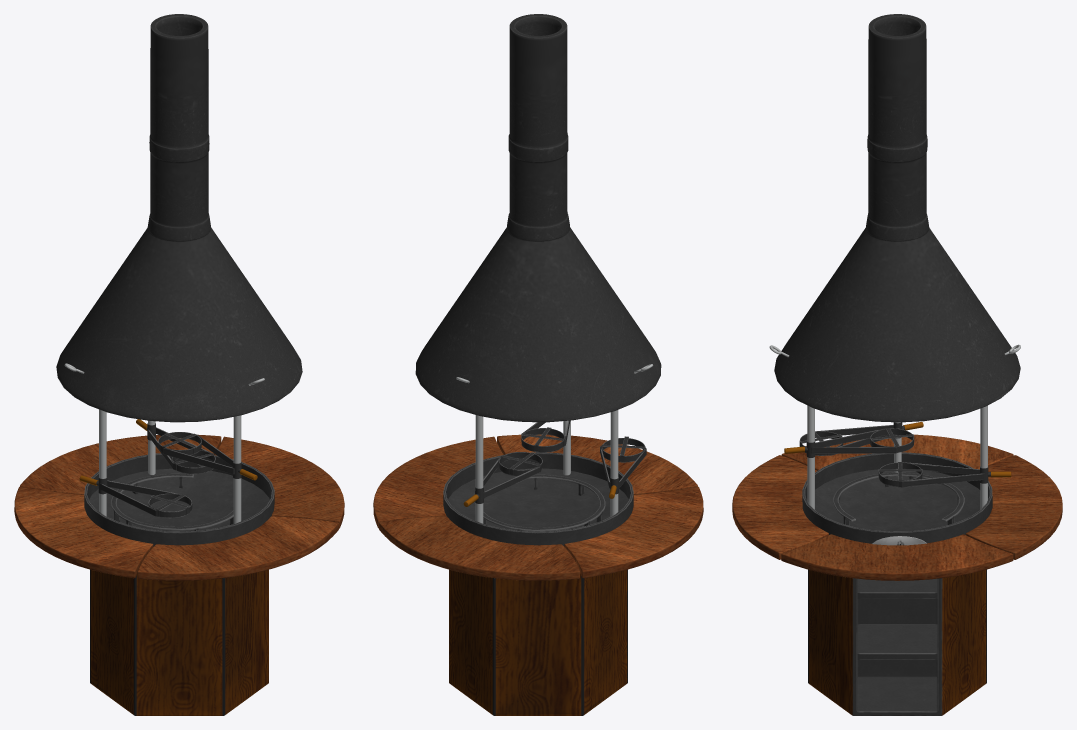
The model's file is grill.glb.
3 renders of one model, left to right at view 1: azimuth 30°, elevation 25°; view 2: azimuth 150°, elevation 25°; view 3: azimuth 270°, elevation 25°, orthographic.
Visible parts, largest first — view 1: mangal; view 2: mangal; view 3: mangal.
Part boxes in pixels (bbox=[...]): mangal: bbox=[14, 14, 344, 715]; mangal: bbox=[373, 14, 703, 715]; mangal: bbox=[732, 14, 1062, 715].
Bounding box in the file's own units: 1.75 × 3.83 × 1.75.
Materials: 1 (1 with a texture image).
